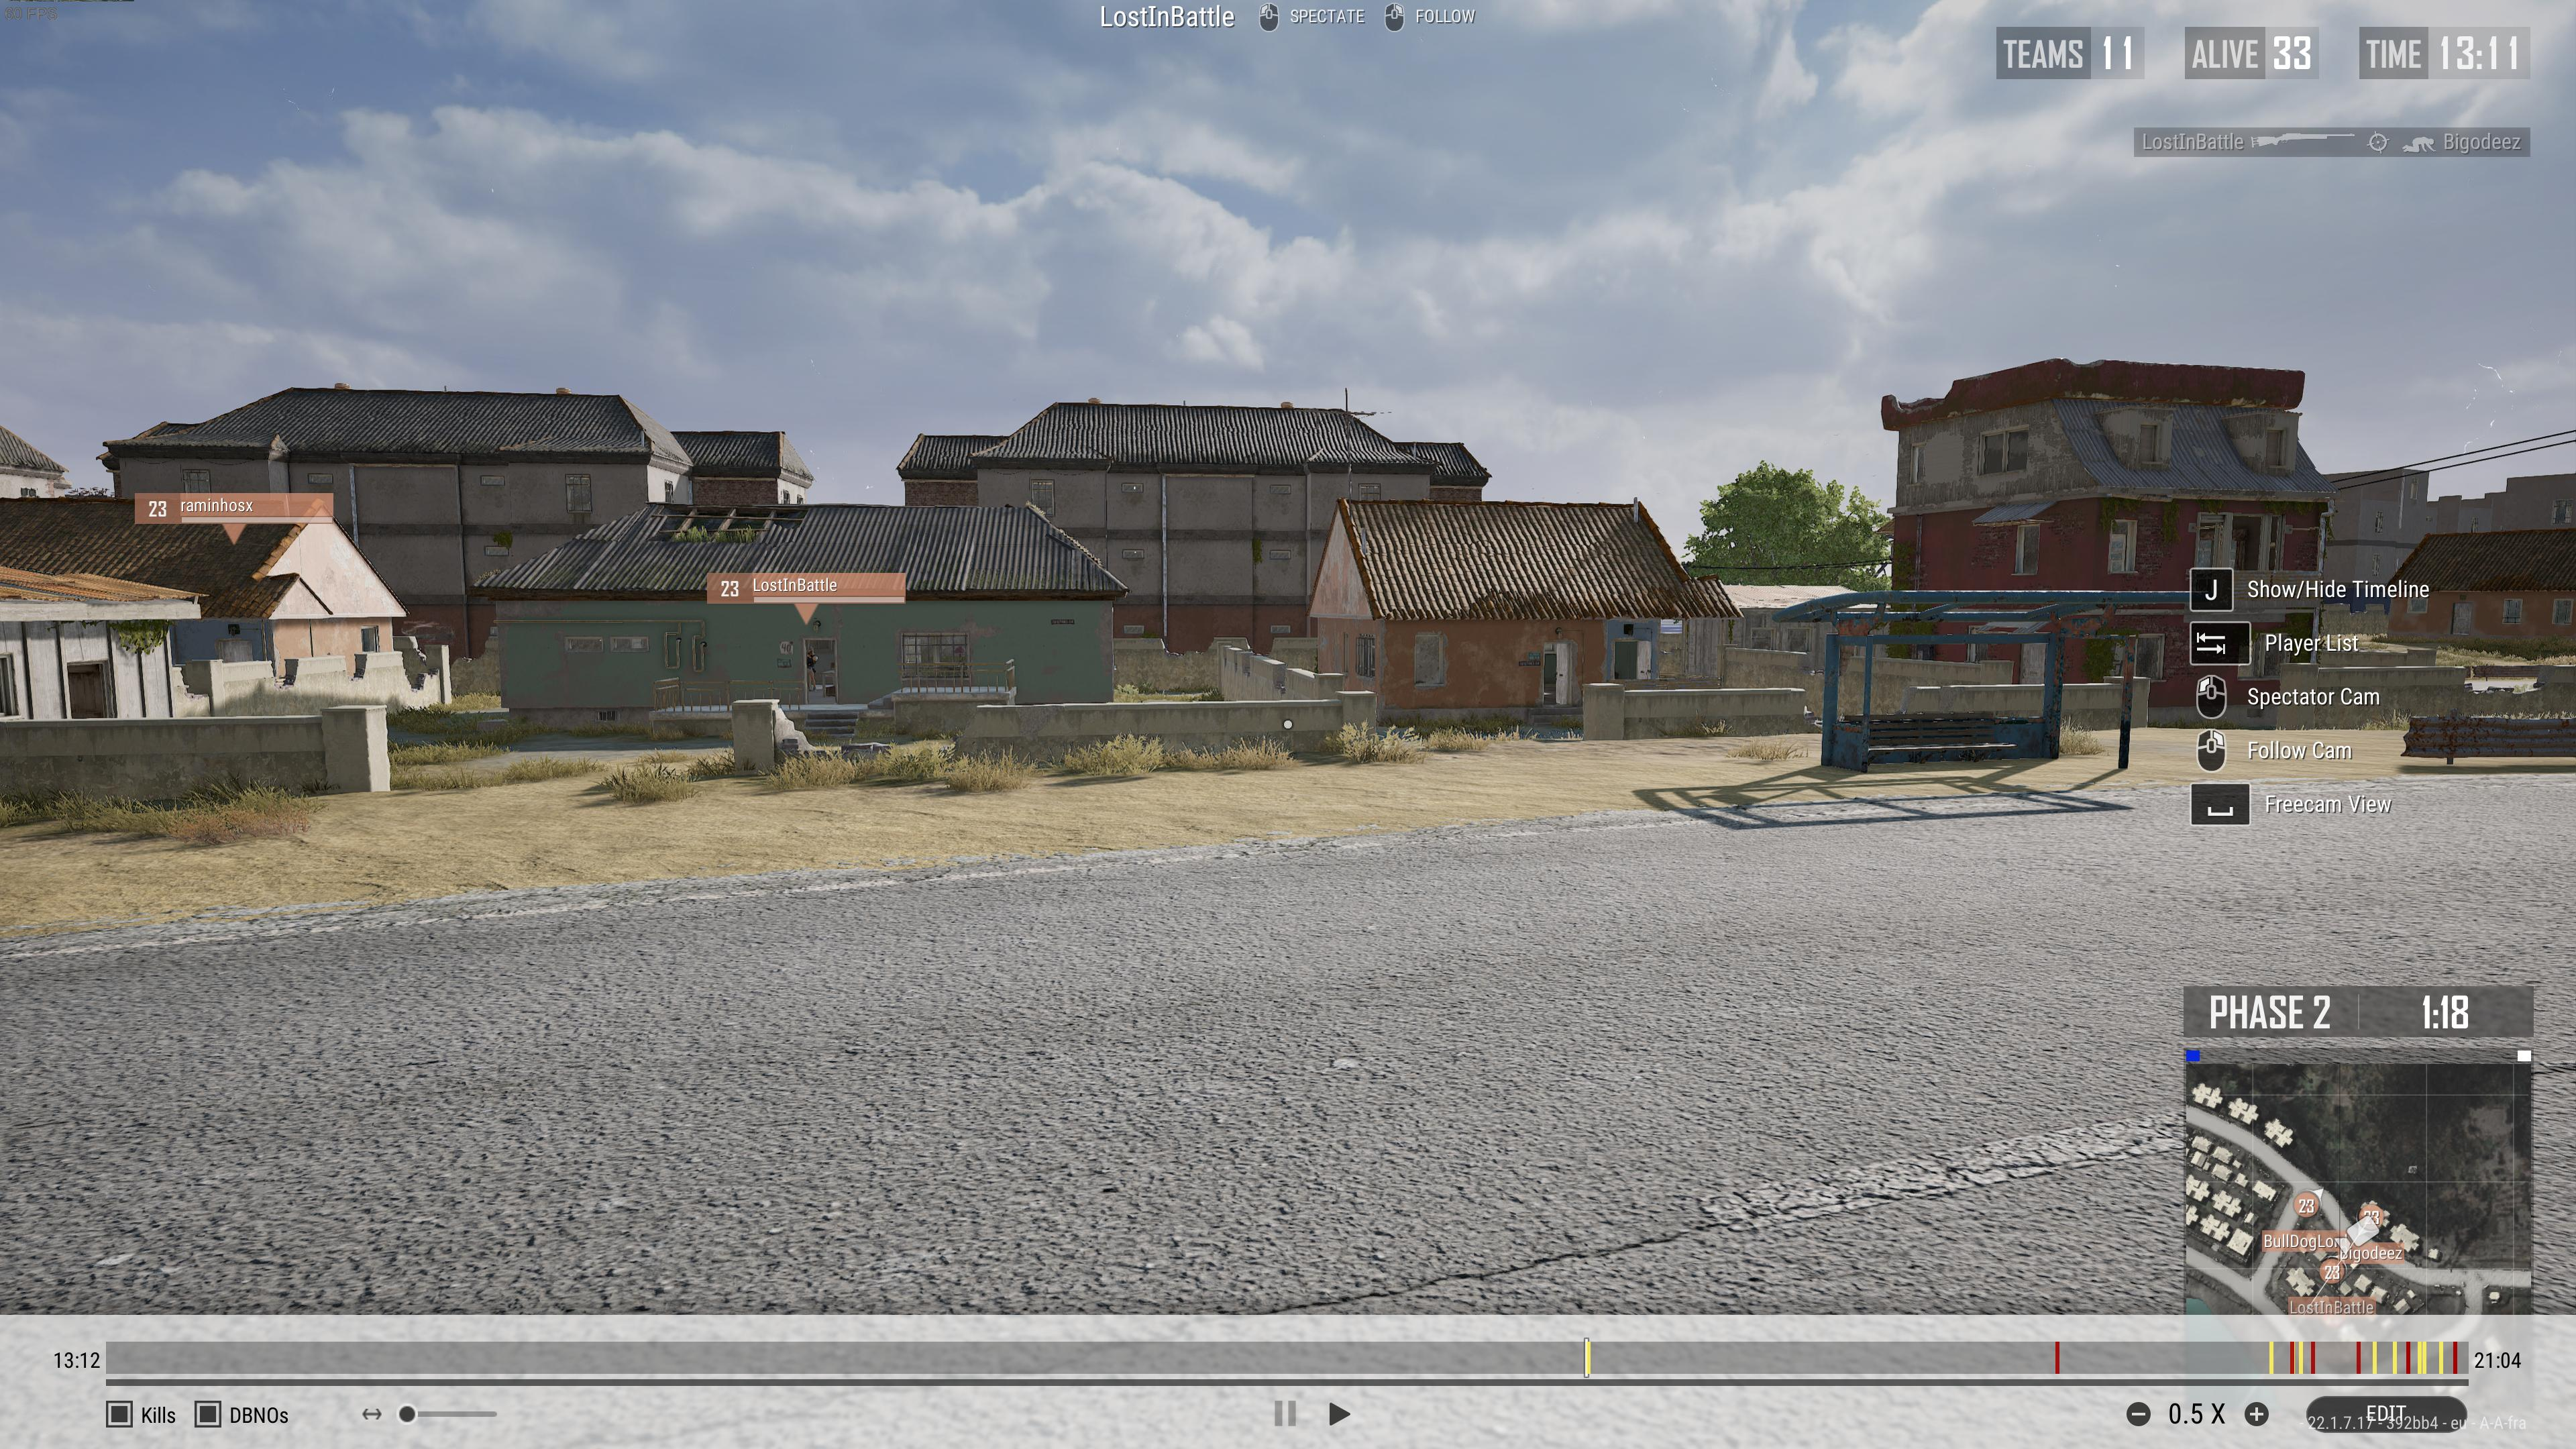enemy: (805, 644, 819, 690)
enemy_head: (805, 644, 814, 655)
